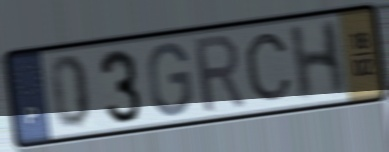0: (48, 52, 94, 134)
3: (97, 46, 144, 126)
C: (242, 31, 295, 104)
G: (146, 40, 195, 120)
H: (287, 16, 348, 104)
R: (190, 31, 249, 117)
